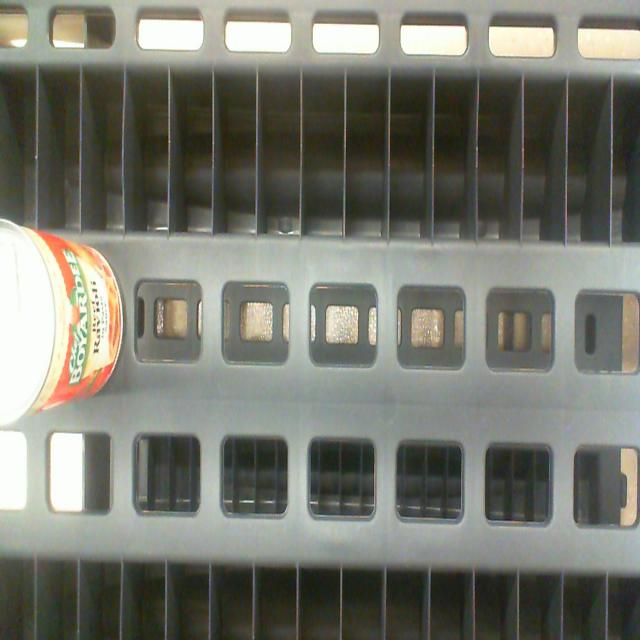can: (0, 219, 54, 429)
